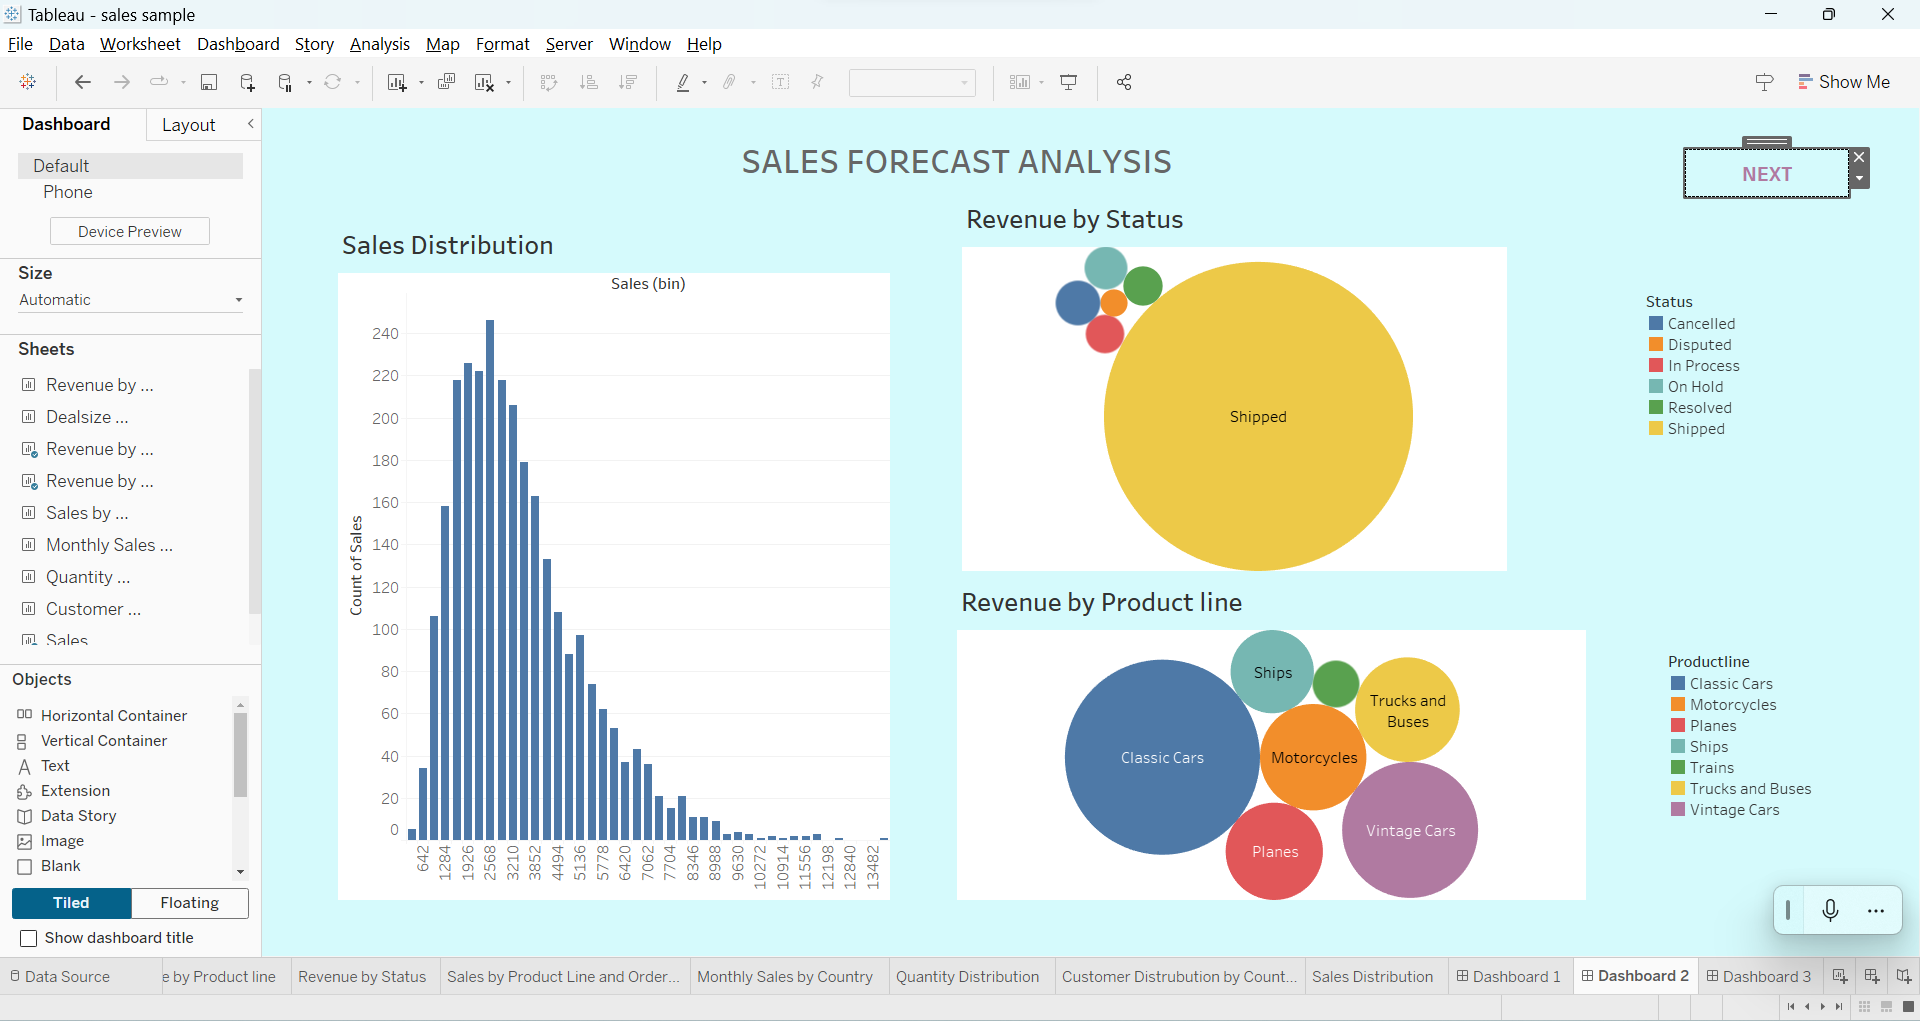

The dashboard page shown, as its layout file describes it:
{"tool":"tableau","page":{"name":"Dashboard 2","canvas":[1000,1000],"units":"permille","ordinal":1},"visuals":[{"type":"text","box":[287.3,34.2,264.3,53.1]},{"type":"dashboard-object","box":[858.8,48.4,99,56.6]},{"type":"worksheet","title":"Revenue by Status","mark":"Circle","box":[422.4,105,328.9,441]},{"type":"worksheet","title":"Sales Distribution","mark":"Automatic","rows":["SALES"],"cols":["Sales (bin)"],"box":[45.9,135.6,333.1,798.4]},{"type":"legend","title":"Revenue by Status","param":"[federated.1p7c3ye0k3n9hr15a0q6i1e9qc64].[none:STATUS:nk]","box":[835.2,215.8,140,185.1]},{"type":"worksheet","title":"Revenue by Product line","mark":"Circle","box":[419.4,556.6,379.6,377.4]},{"type":"legend","title":"Revenue by Product line","param":"[federated.1p7c3ye0k3n9hr15a0q6i1e9qc64].[none:PRODUCTLINE:nk]","box":[848.5,640.3,148.5,211.1]}]}

Visuals, with their boxes on the dashboard's canvas, which has no fixed pixel size, in thousandths of its width and height (x1, y1, x2, y2). These are canvas units, not pixel positions in the 1920x1021 screenshot, which may show the page scaled, cropped or inside an application window:
text: 287/34/552/87
dashboard-object: 859/48/958/105
"Revenue by Status" worksheet (Circle marks): 422/105/751/546
"Sales Distribution" worksheet: 46/136/379/934
"Revenue by Status" legend: 835/216/975/401
"Revenue by Product line" worksheet (Circle marks): 419/557/799/934
"Revenue by Product line" legend: 848/640/997/851
